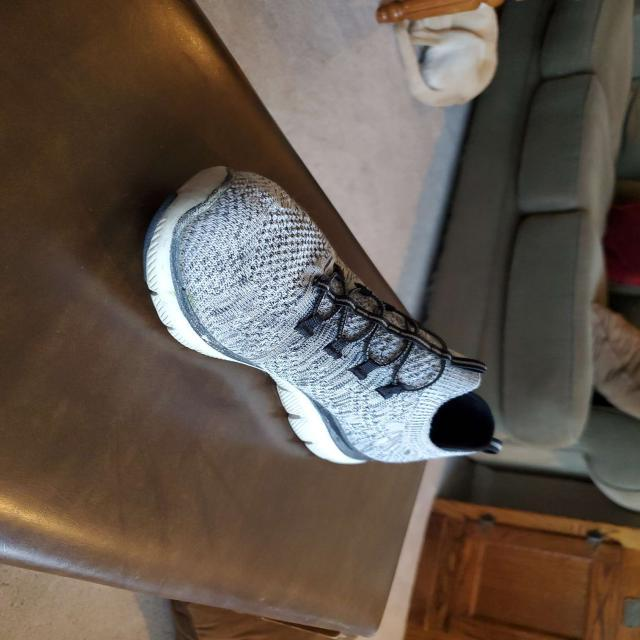shoe: (139, 162, 509, 468)
